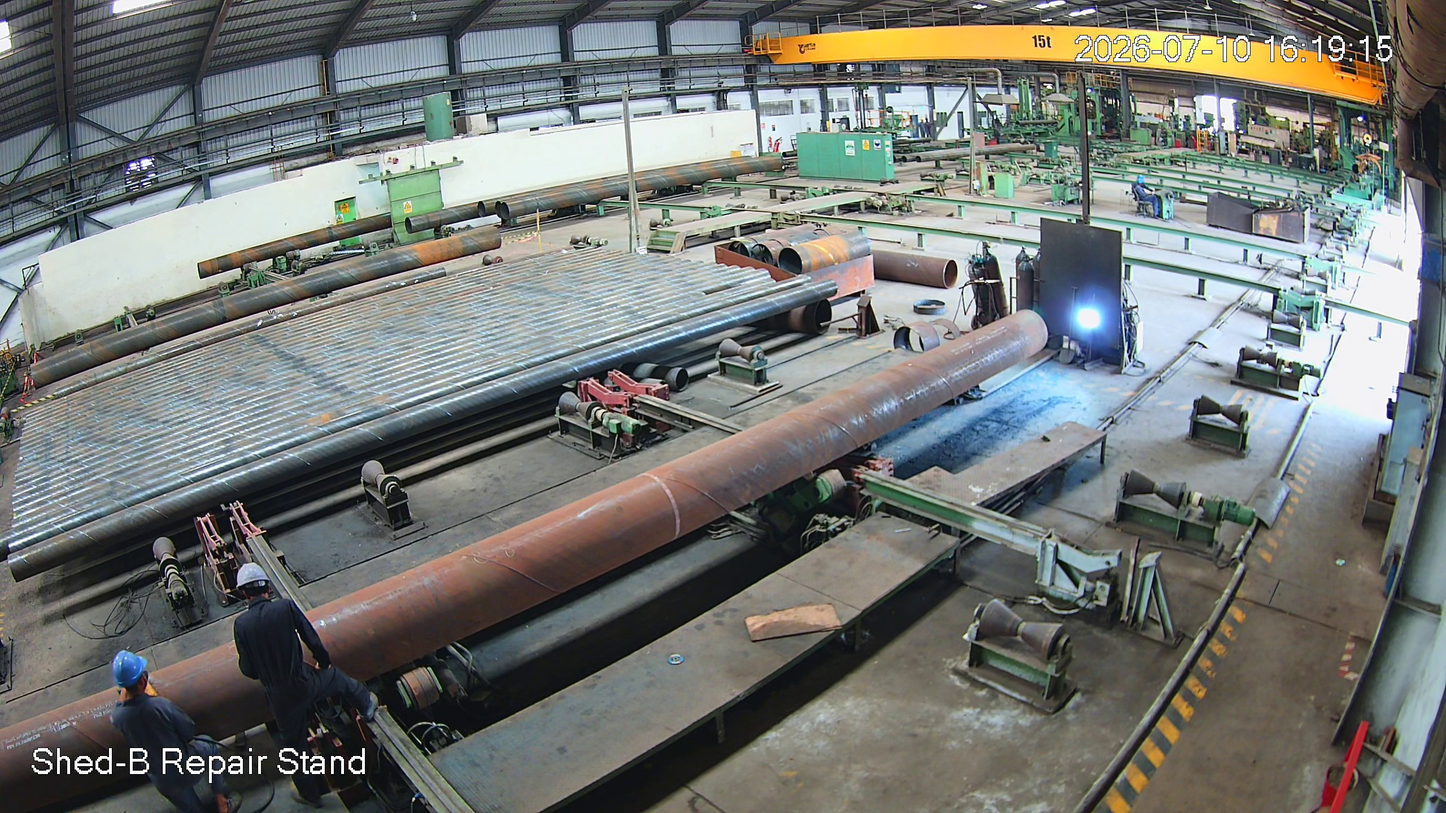Helmet: (105, 645, 163, 713), (229, 560, 286, 625)
Person: (226, 562, 374, 790), (103, 654, 223, 810)
